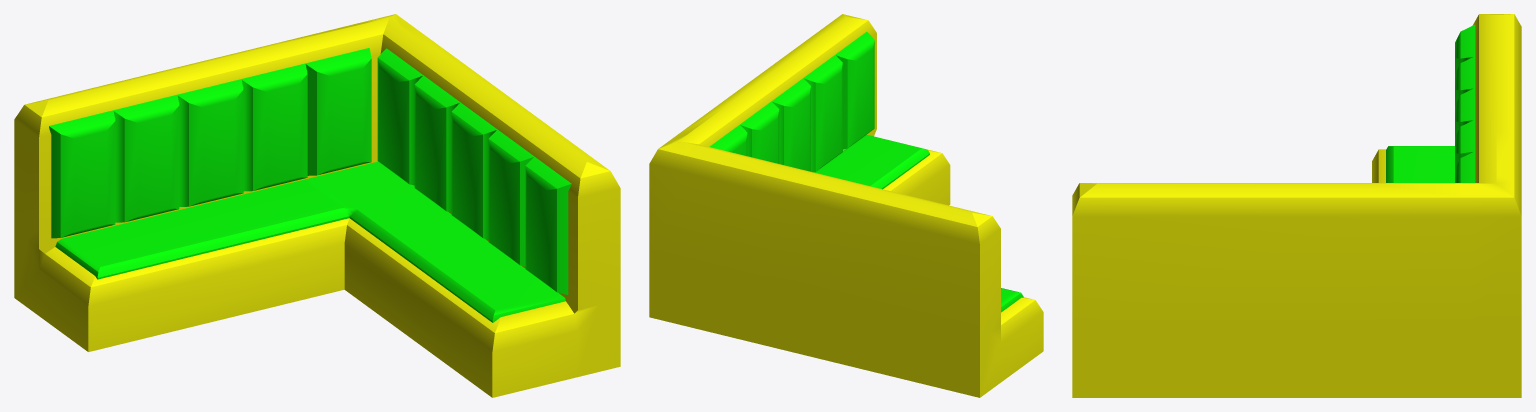
Rendered from LChair.fbx.
3 renders of one model, left to right at view 1: azimuth 30°, elevation 25°; view 2: azimuth 150°, elevation 25°; view 3: azimuth 270°, elevation 25°, orthographic. The views are drawn at different scales.
Visible parts, largest first — view 1: pCube13; view 2: pCube13; view 3: pCube13.
Boxes of the visible parts, <box> form: pCube13: <box>14,14,620,397</box>; pCube13: <box>649,14,1043,397</box>; pCube13: <box>1072,14,1521,397</box>.
Size of the model in its own units: 3 by 1.5 by 3.
